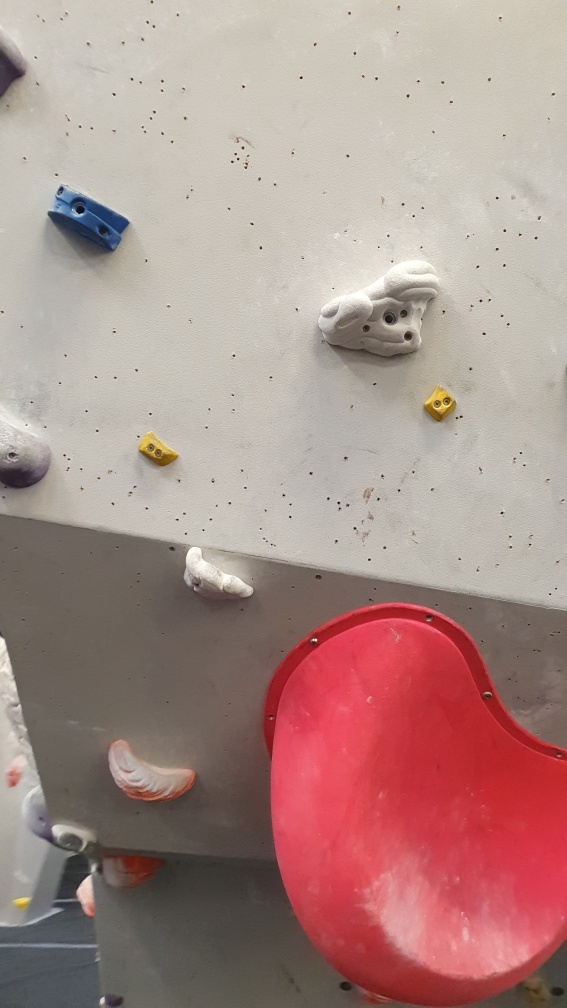Crimp: (139, 432, 178, 470)
Jug: (315, 255, 446, 364), (105, 735, 206, 811), (175, 545, 259, 610)
Pinch: (47, 177, 133, 253), (423, 380, 460, 427)
